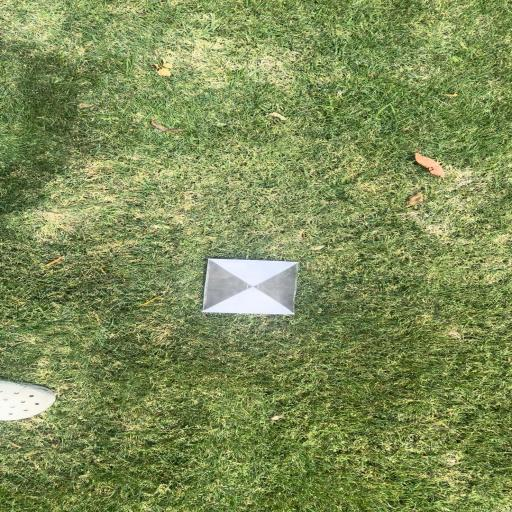target: (200, 257, 300, 315)
